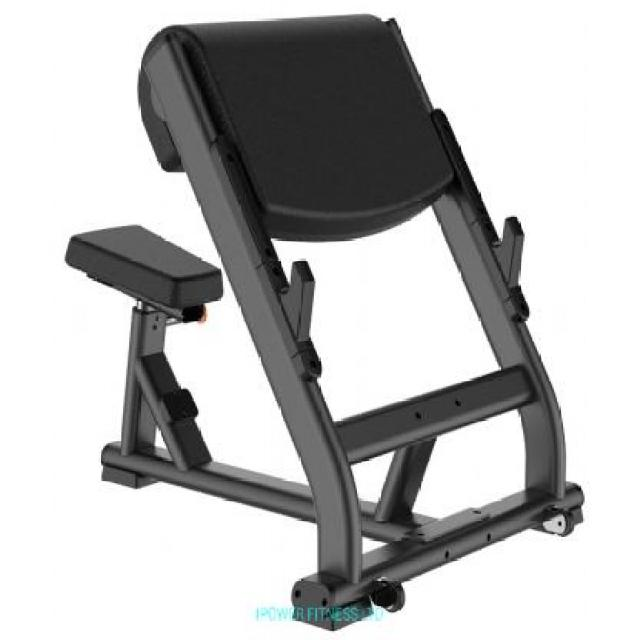arm curl machine: (65, 12, 588, 602)
